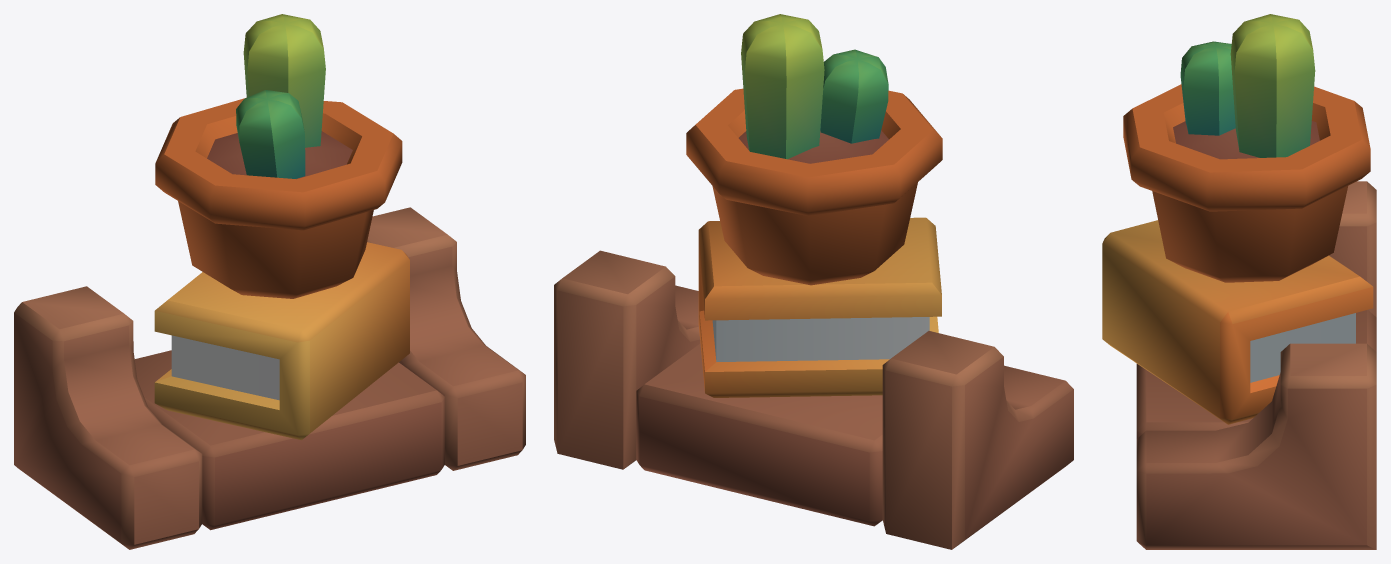
Rendered from K_shelf_B_small_decorated.glb.
3 renders of one model, left to right at view 1: azimuth 30°, elevation 25°; view 2: azimuth 150°, elevation 25°; view 3: azimuth 270°, elevation 25°, orthographic. The views are drawn at different scales.
Visible parts, largest first — view 1: shelf_B_small_decorated; view 2: shelf_B_small_decorated; view 3: shelf_B_small_decorated.
Part boxes in pixels (x1,y1,x2,y2): shelf_B_small_decorated: (14, 14, 525, 549); shelf_B_small_decorated: (554, 14, 1073, 549); shelf_B_small_decorated: (1102, 14, 1376, 549).
Bounding box in the file's own units: 1 × 1.01 × 0.5713.
